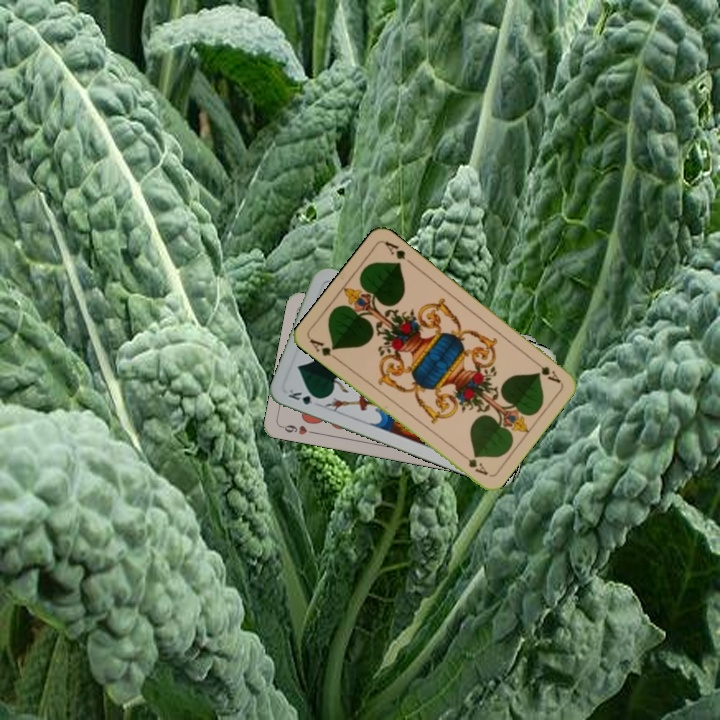GA: (529, 356, 564, 386), (305, 335, 341, 364)
GK: (284, 385, 324, 407)
H9: (278, 421, 318, 437)
